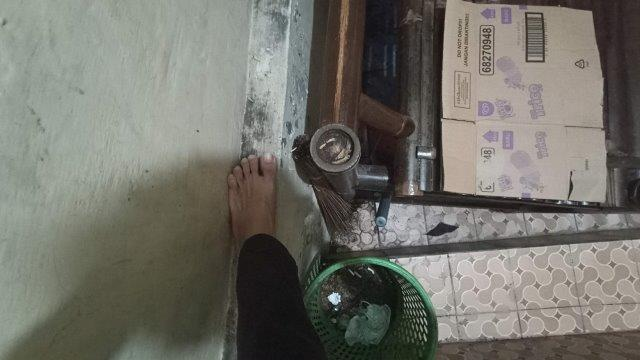kardus: (443, 2, 609, 201)
